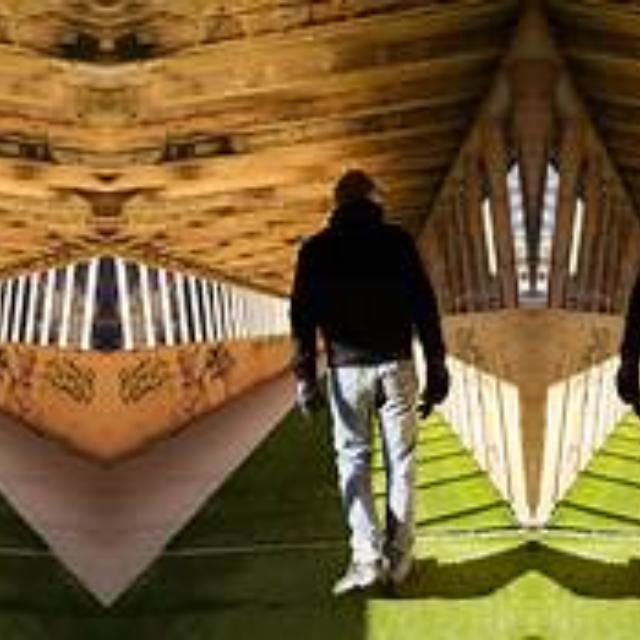person: (274, 157, 478, 595), (586, 157, 640, 595)
